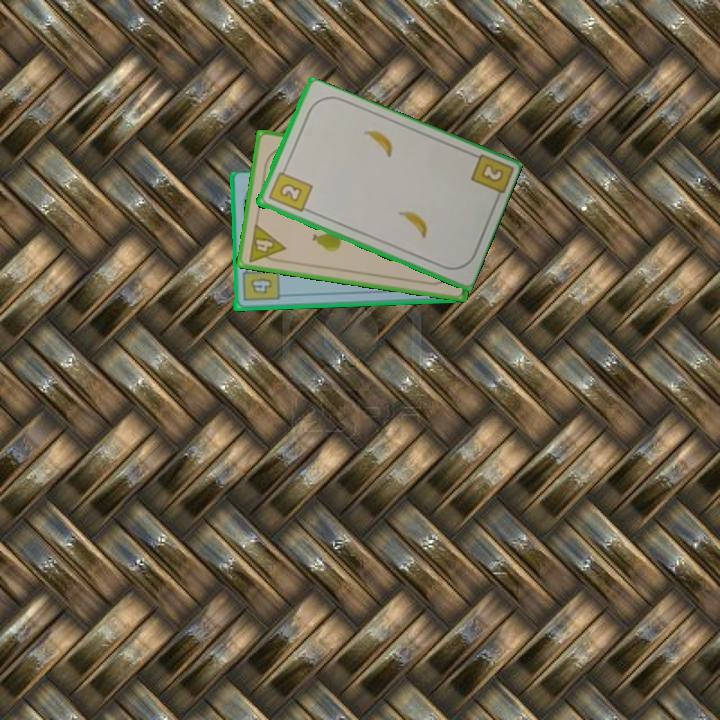2b: (265, 164, 315, 215), (477, 160, 506, 186)
4b: (239, 262, 281, 304)
4p: (245, 220, 288, 266)
